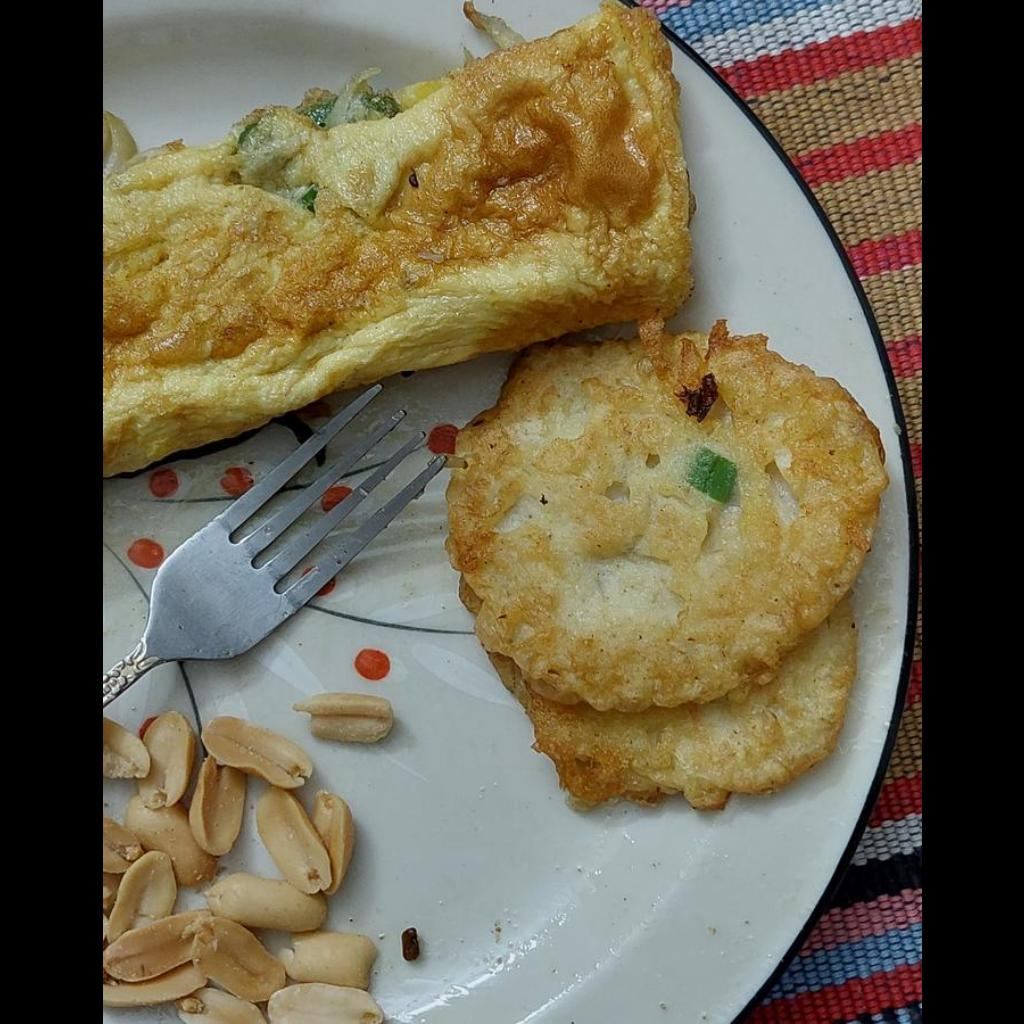badam: (102, 712, 381, 1023), (292, 693, 392, 743)
egg-poached: (102, 9, 698, 479)
puri: (453, 327, 882, 815)
